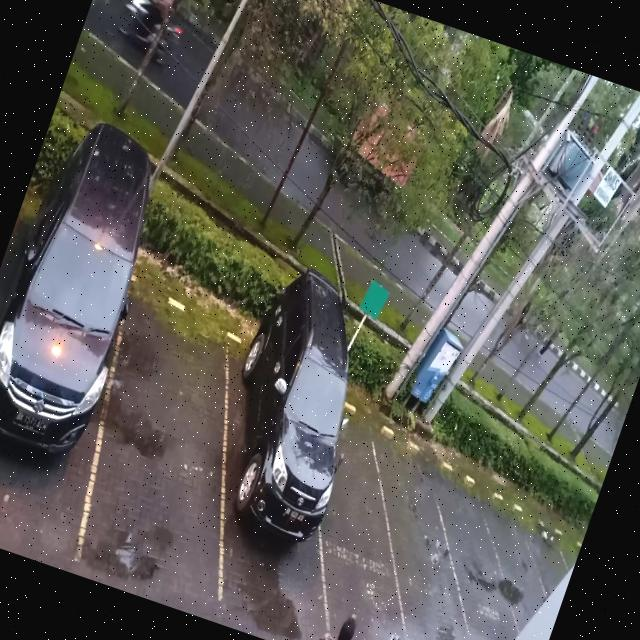empty: (58, 284, 260, 586), (286, 414, 431, 640), (362, 451, 485, 640), (423, 476, 528, 640)
occupied: (0, 163, 177, 529), (171, 336, 374, 616)
